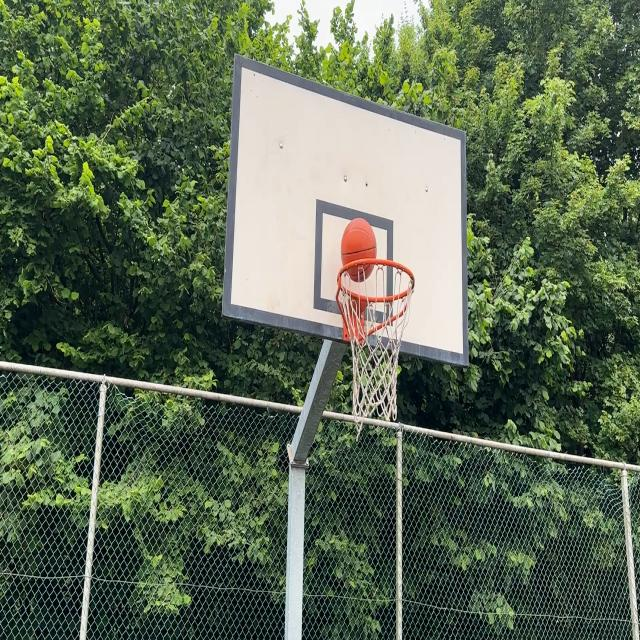rebound_hit: (341, 219, 377, 282)
